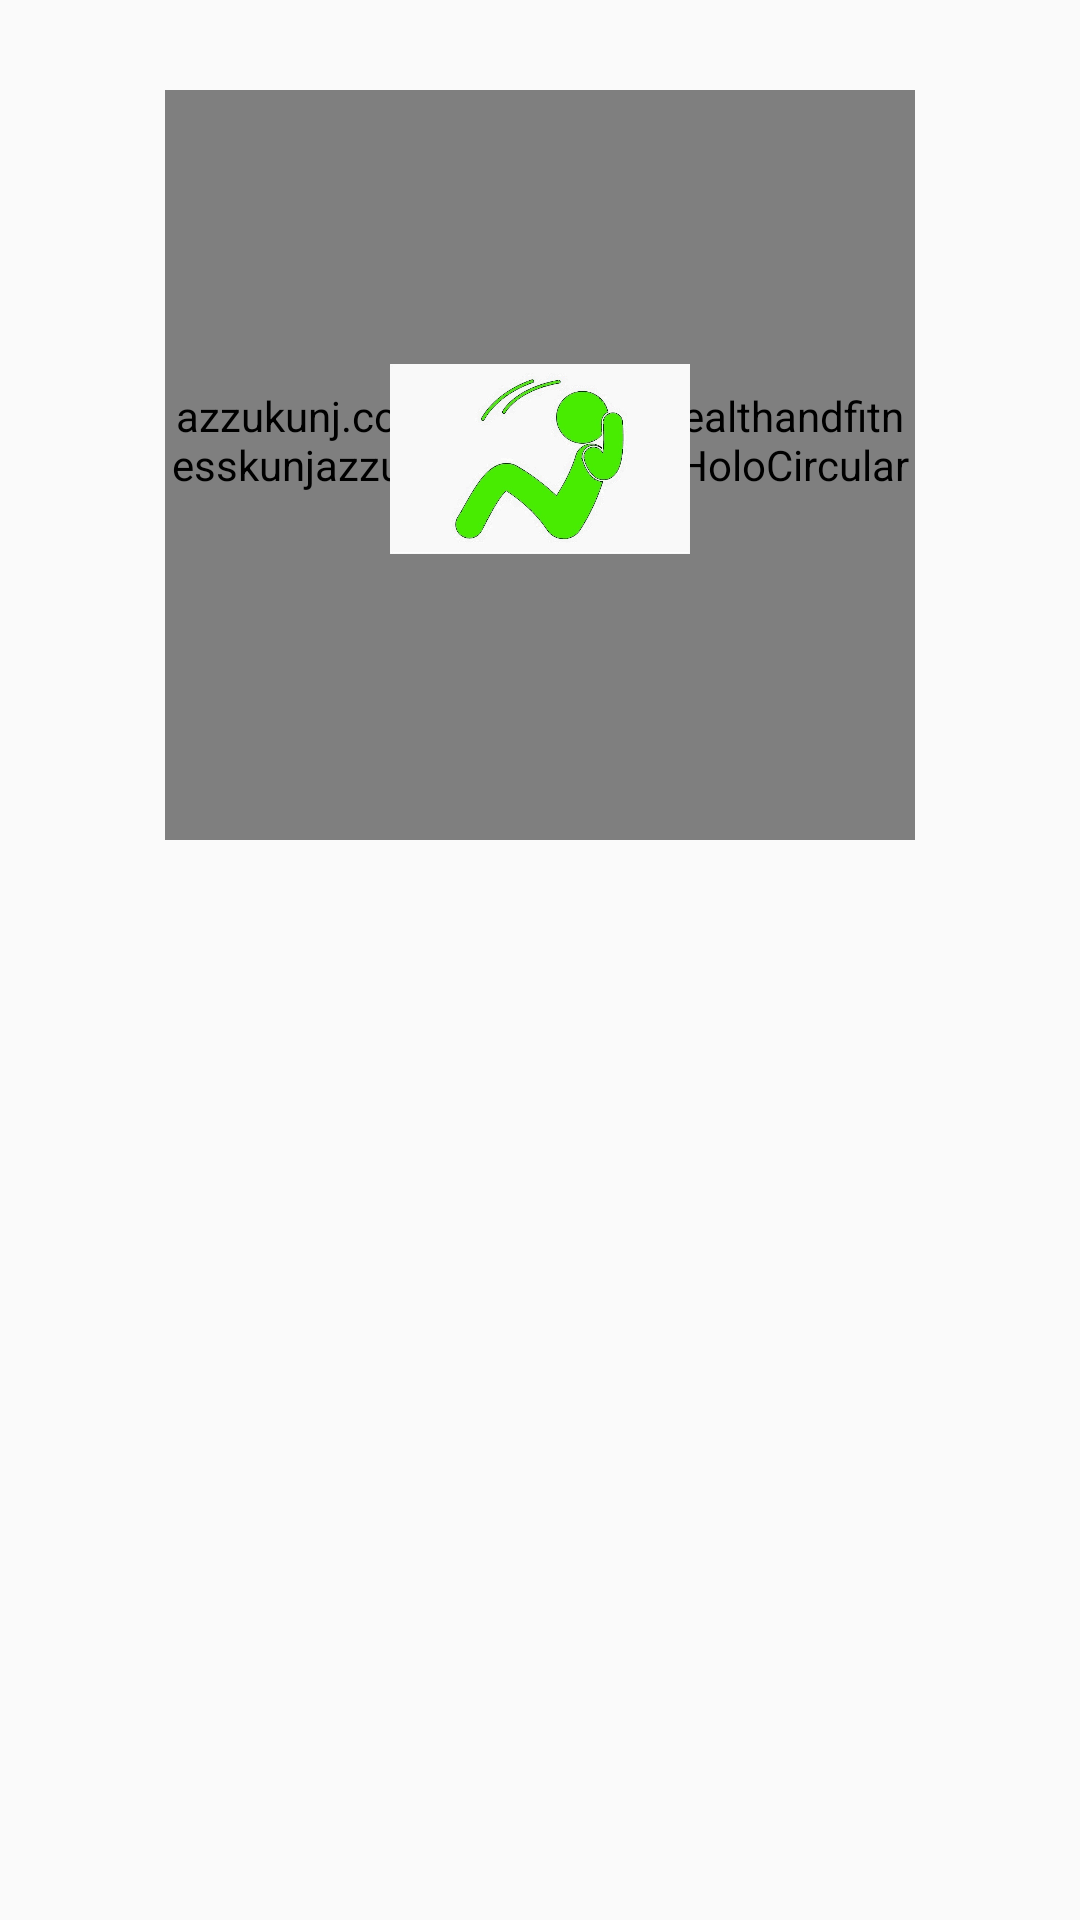

Screen size 1080×1920. Icon name, then its center in pixels as point (x, y):
situpsicon: point (540, 459)
